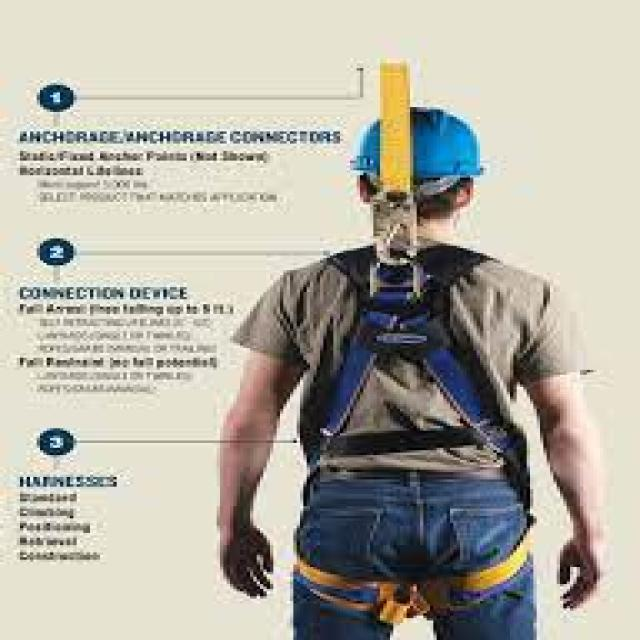harness: (347, 55, 450, 279)
